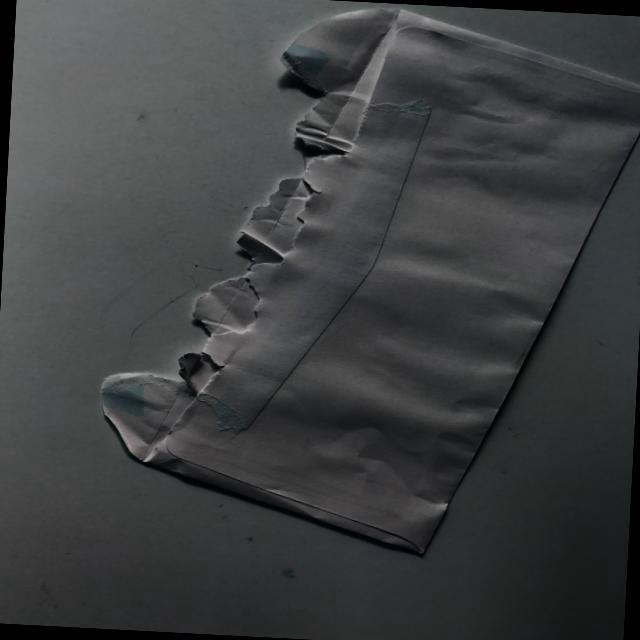paper: (86, 0, 640, 568)
